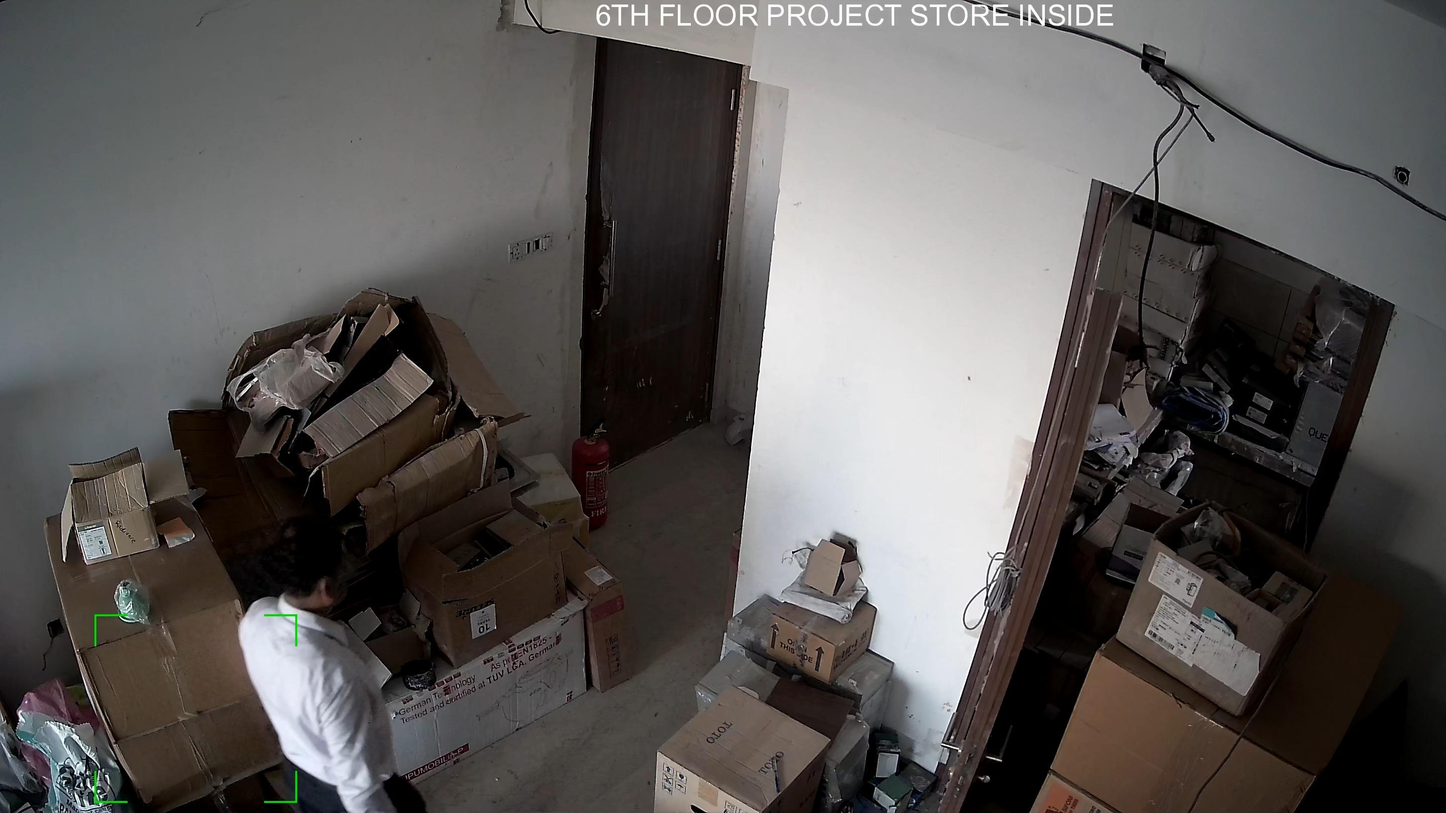Door-Close: (573, 41, 749, 480)
